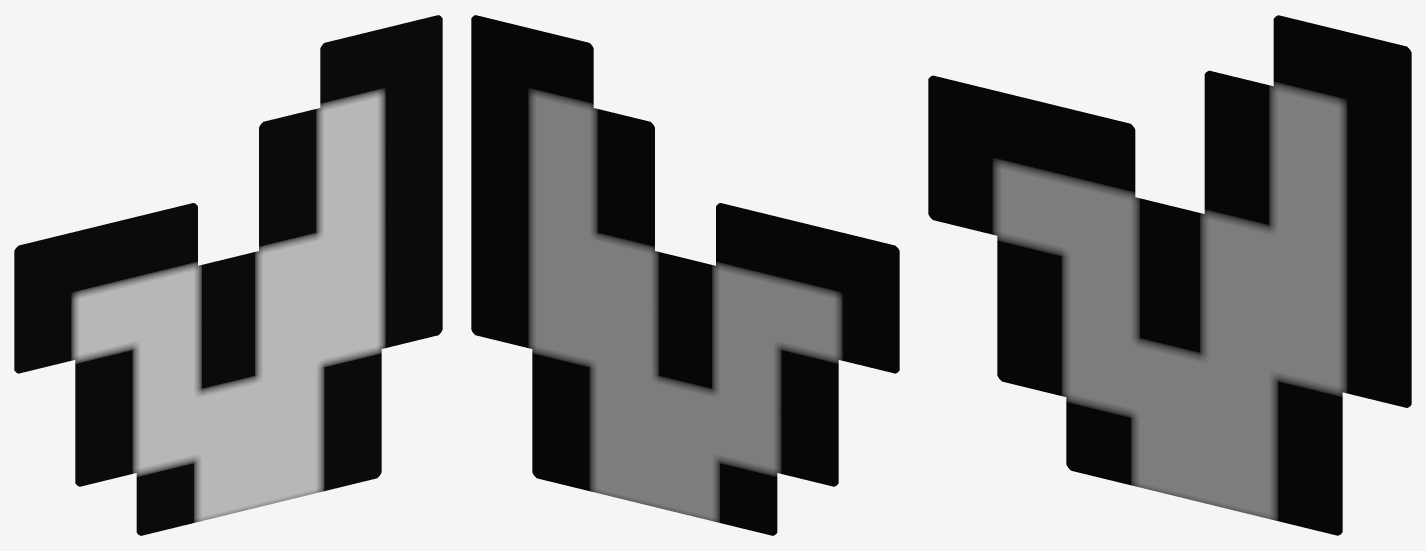
Rendered from 2DGrass4.fbx.
3 views of the same model, side by side, from view 1: azimuth 30°, elevation 25°; view 2: azimuth 150°, elevation 25°; view 3: azimuth 330°, elevation 25° (orthographic). The views are drawn at different scales.
Parts seen in each view (by area): view 1: Plane; view 2: Plane; view 3: Plane.
Boxes of the visible parts, x1,y1,x2,y2 form: Plane: (14, 15, 442, 535); Plane: (471, 15, 899, 535); Plane: (928, 15, 1411, 535).
Size of the model in its own units: 87.5 by 87.5 by 3.82e-06.
